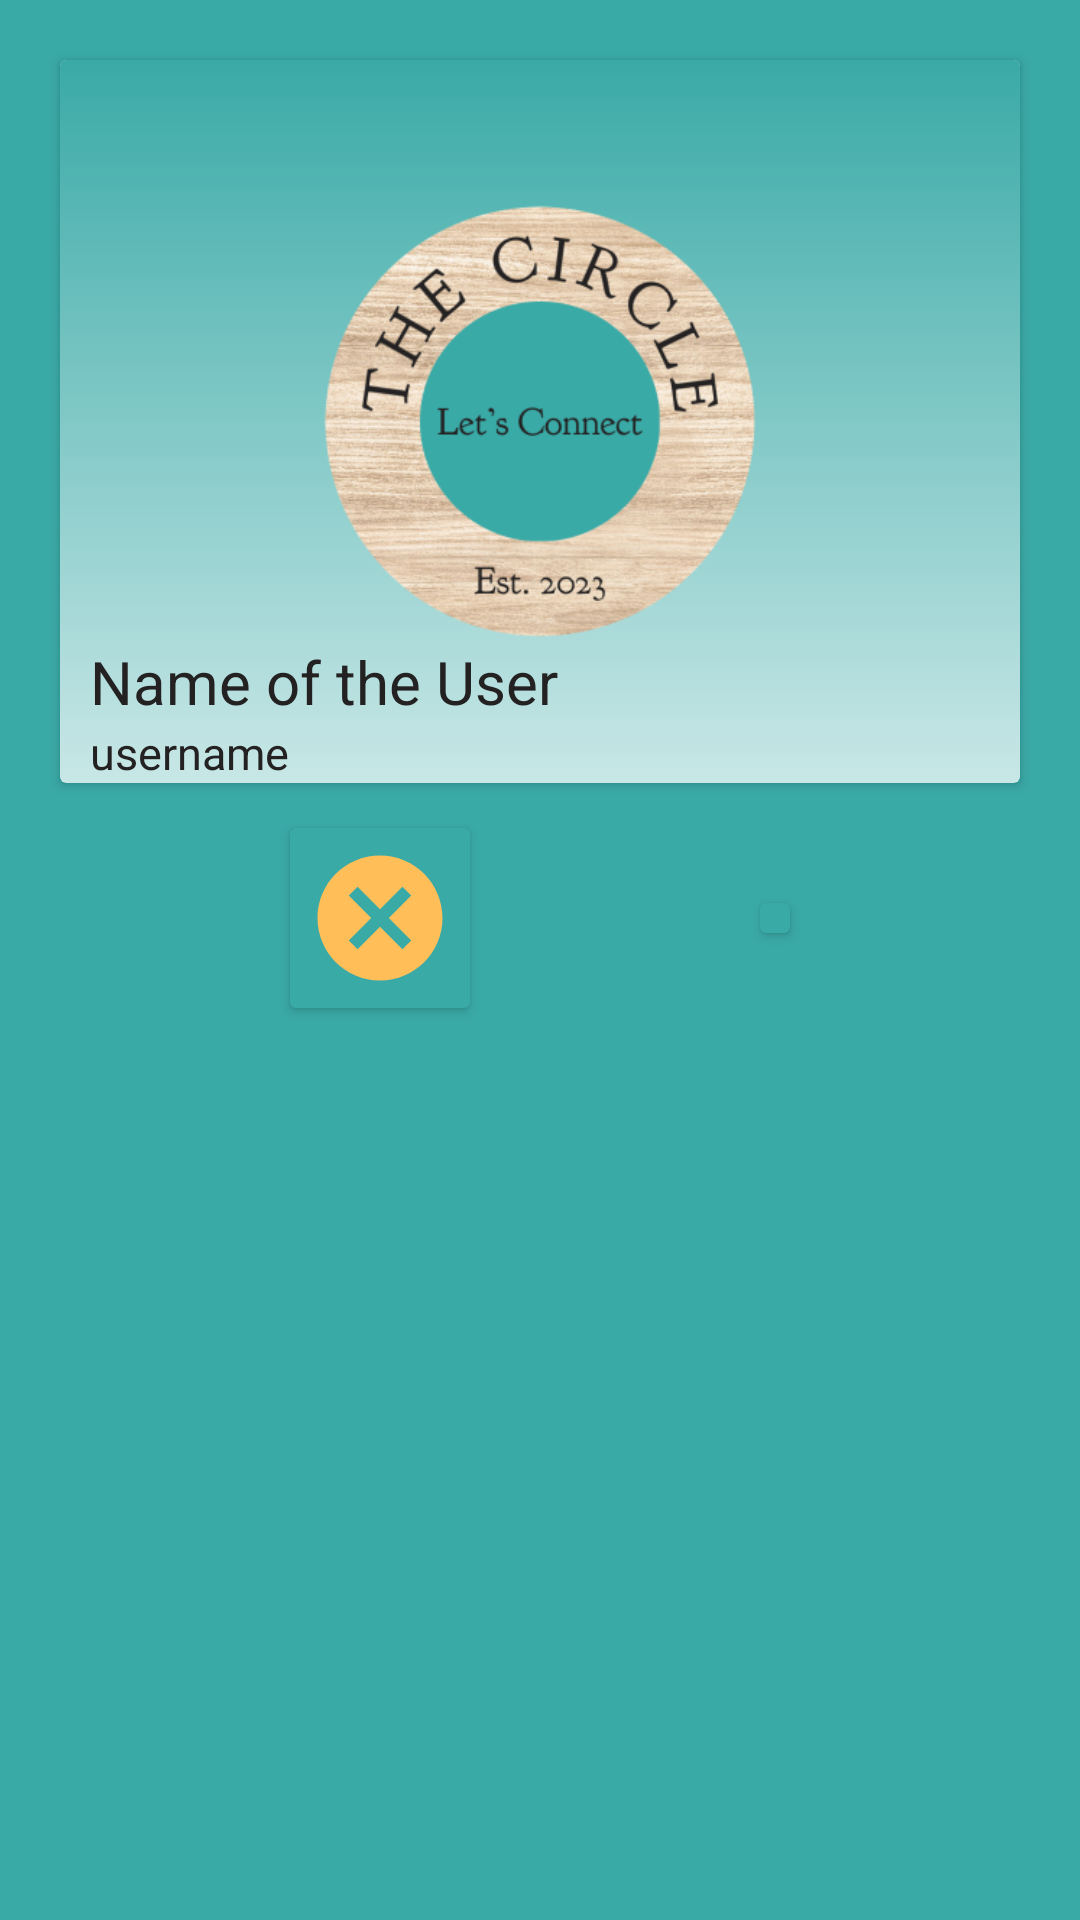

Where to tap for icons on this 1080*1920 app screen, as (x,y):
cancel: (380,918)
